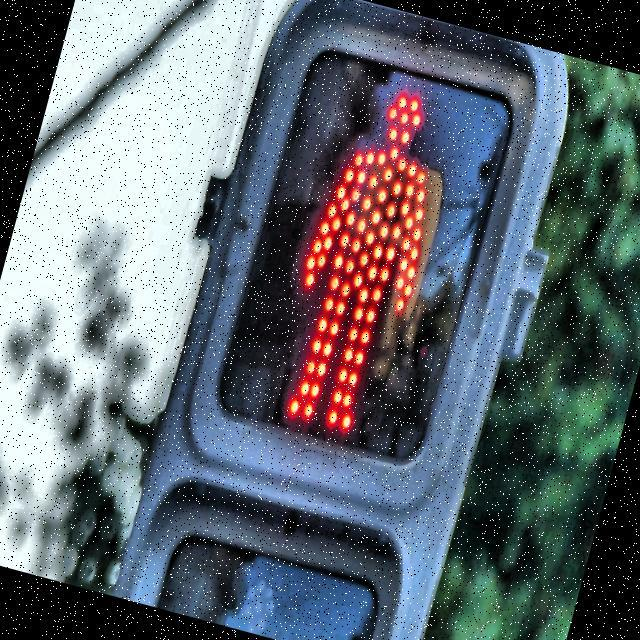red_light: (253, 62, 470, 448)
